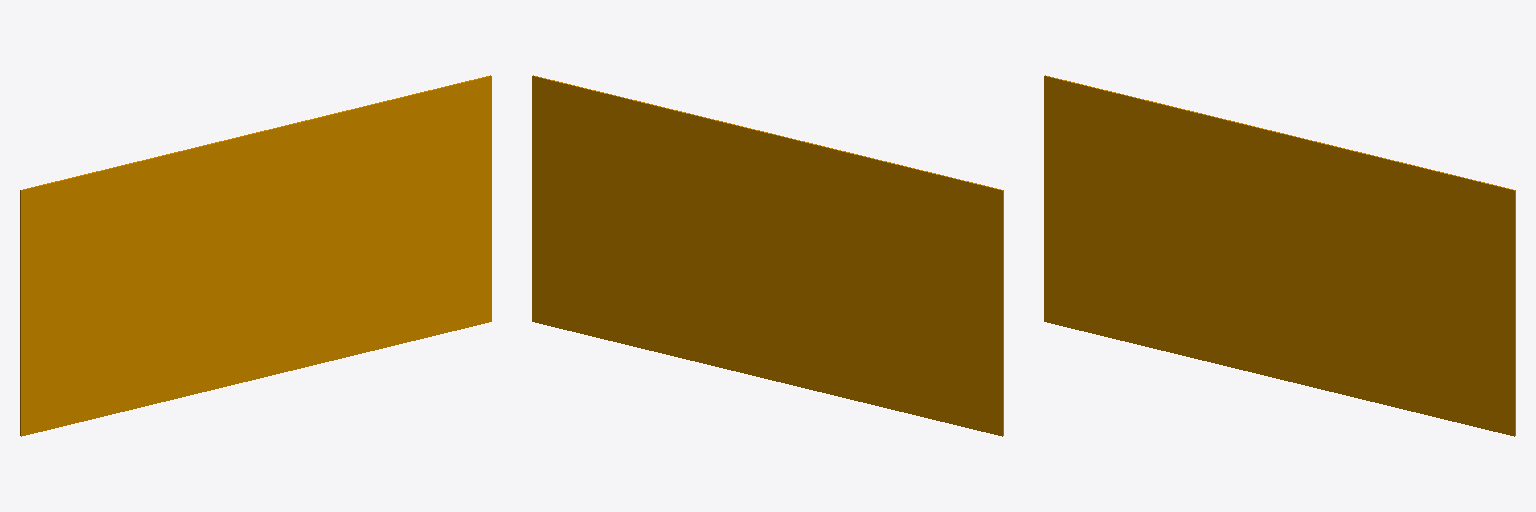
URDF robot description (right_wall):
<?xml version='1.0' encoding='UTF-8'?>
<robot name="right_wall">
  <link name="base_link">
    <inertial>
      <origin xyz="0.0 0.0 0.0" rpy="0.0 -0.0 0.0"/>
      <mass value="1.0"/>
      <inertia ixx="1.0" ixy="0.0" ixz="0.0" iyy="1.0" iyz="0.0" izz="1.0"/>
    </inertial>
    <visual name="base_link_visual">
      <geometry>
        <box size="32 0.1 16"/>
      </geometry>
      <origin xyz="-8.0 0 0.0" rpy="3.14159 0 0"/>
    </visual>
    <collision name="base_link_collision">
      <geometry>
        <box size="32 0.1 16"/>
      </geometry>
      <origin xyz="-8.0 0 0.0" rpy="3.14159 0 0"/>
    </collision>
  </link>
</robot>

--- Render facts (derived) ---
3 views of the same robot in one strip: view 1: azimuth 30°, elevation 25°; view 2: azimuth 150°, elevation 25°; view 3: azimuth 330°, elevation 25° (orthographic).
Model right_wall with 1 links and 0 joints (none), rooted at base_link, posed all joints at 0.
Links seen in each view (by area): view 1: base_link; view 2: base_link; view 3: base_link.
Boxes of the visible links, x1,y1,x2,y2 form: base_link: (20,75,491,436); base_link: (532,75,1003,436); base_link: (1044,75,1515,436).
Bounding box of the posed robot: 32 × 0.1 × 16 m (x, y, z).
Geometry: primitives only (box / cylinder / sphere), no mesh files.